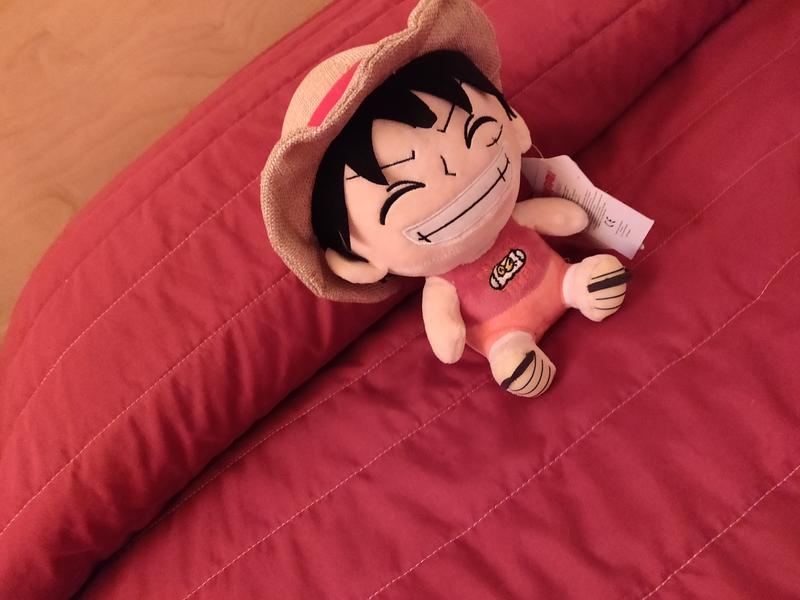rufy: (247, 1, 661, 400)
